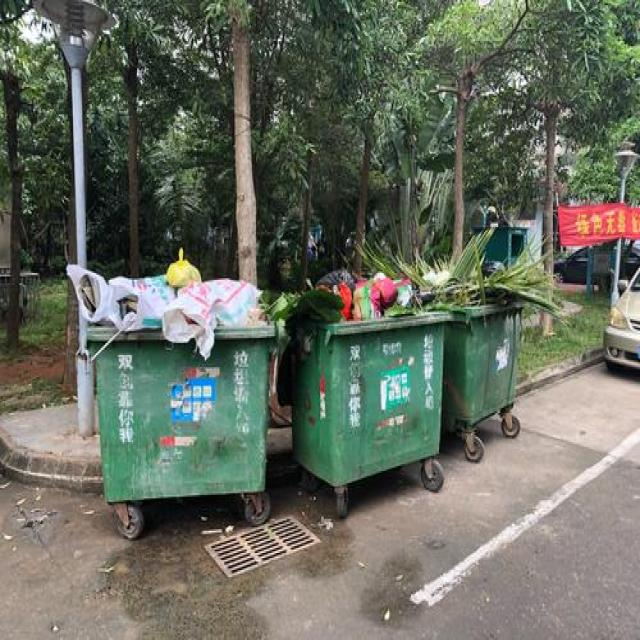overflow: (61, 246, 276, 503), (276, 266, 450, 485), (440, 225, 561, 425)
